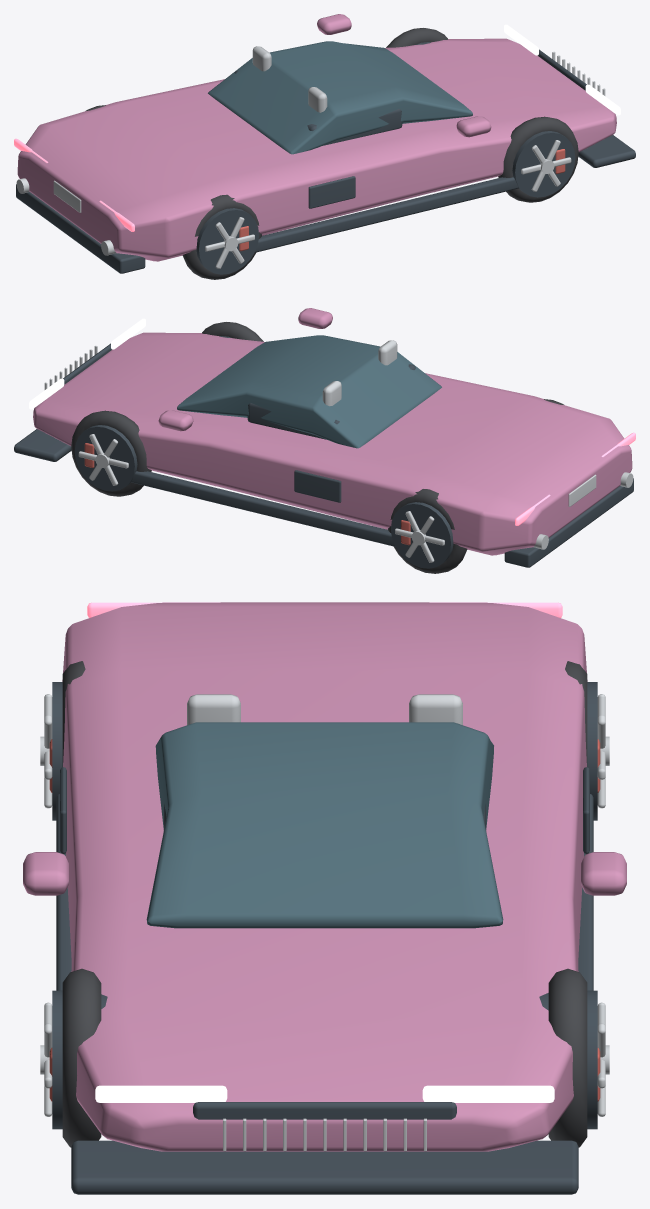
Rendered from SM_sup_spider.glb.
The picture shows the model from 3 angles, top to bottom: view 1: azimuth 30°, elevation 25°; view 2: azimuth 150°, elevation 25°; view 3: azimuth 270°, elevation 25°; orthographic projection. The views are drawn at different scales.
Visible parts, largest first — view 1: SM_sup_spider; view 2: SM_sup_spider; view 3: SM_sup_spider.
Part boxes in pixels (box(x1,y1,x2,y2)): SM_sup_spider: box(14, 14, 635, 279); SM_sup_spider: box(14, 308, 635, 573); SM_sup_spider: box(23, 602, 626, 1194).
Size of the model in its own units: 4.3 by 1.05 by 2.17.
